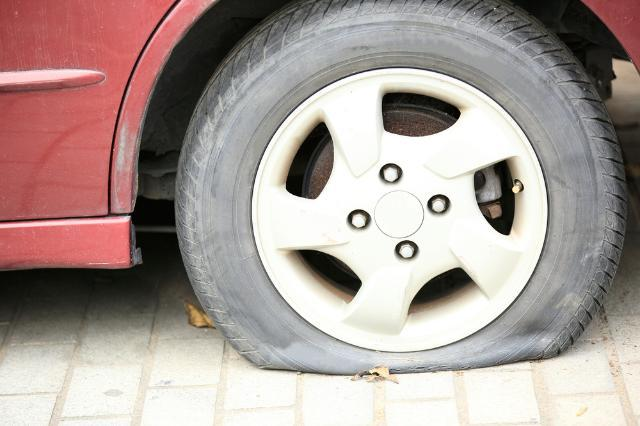tire flat: (174, 0, 627, 377)
